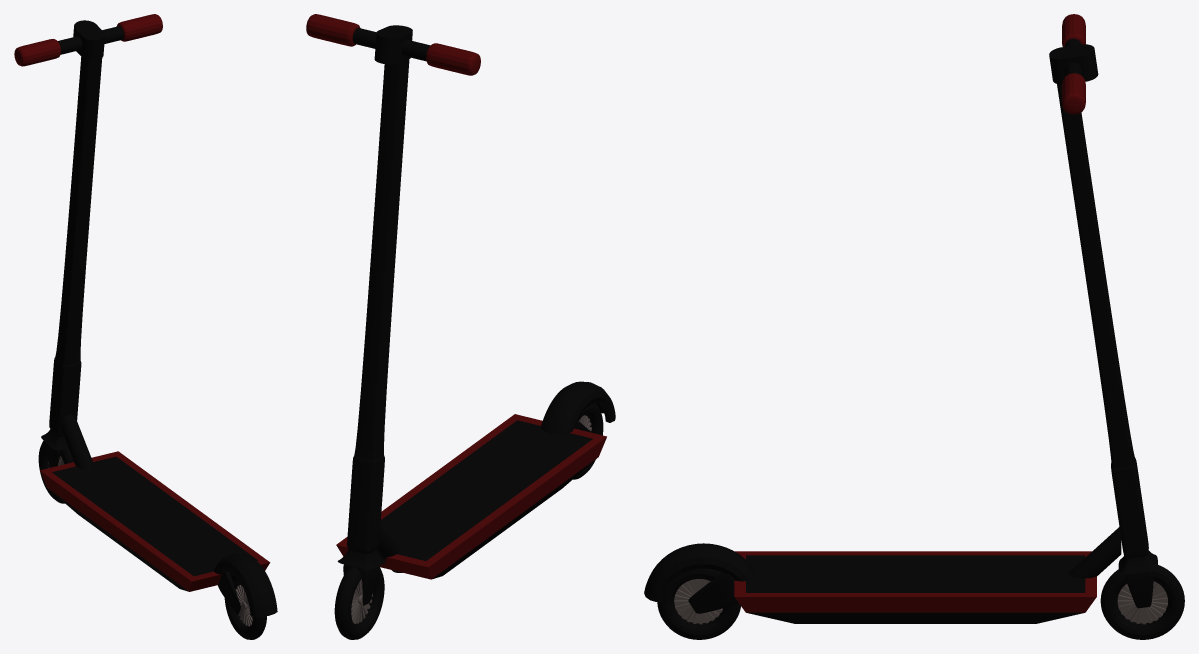
The model's file is scooter.fbx.
3 views of the same model, side by side, from view 1: azimuth 30°, elevation 25°; view 2: azimuth 150°, elevation 25°; view 3: azimuth 270°, elevation 25° (orthographic). The views are drawn at different scales.
Visible parts, largest first — view 1: Torus.002; view 2: Torus.002; view 3: Torus.002.
Part boxes in pixels (x1,y1,x2,y2): Torus.002: [14, 14, 277, 639]; Torus.002: [306, 14, 615, 639]; Torus.002: [644, 14, 1184, 639].
Size of the model in its own units: 145 by 482 by 400.
